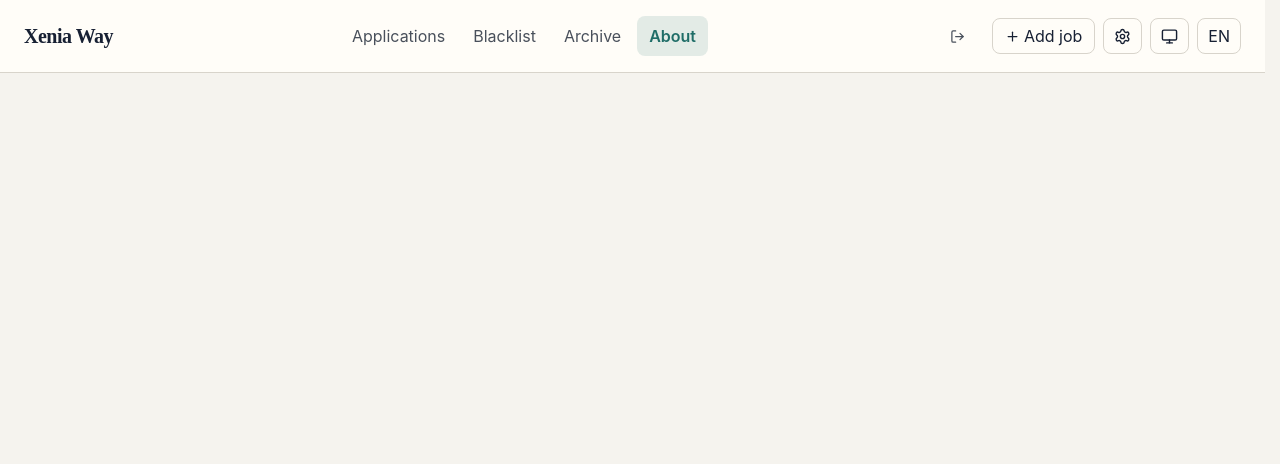
it: a dismissed successful notice can announce a later explicit choice
This screenshot has width=1280, height=464.
Click the button named "Theme: System. Change theme": click(1170, 36) [1150,18,1189,54]
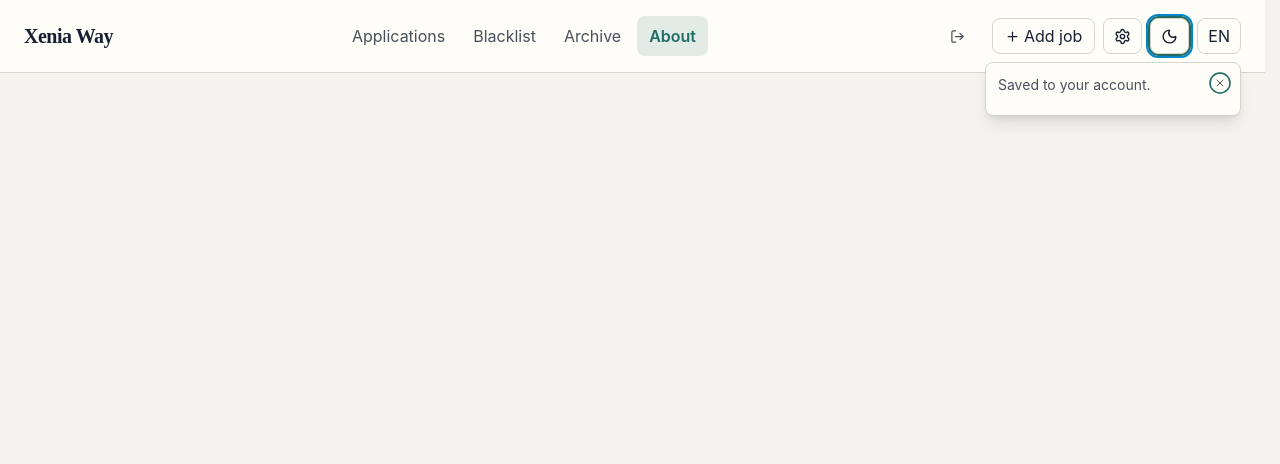
Expected: the text "Saved to your account." is shown, [998,76,1151,93]
Click the button named "Dismiss preference notice": click(1220, 83) [1204,67,1236,99]
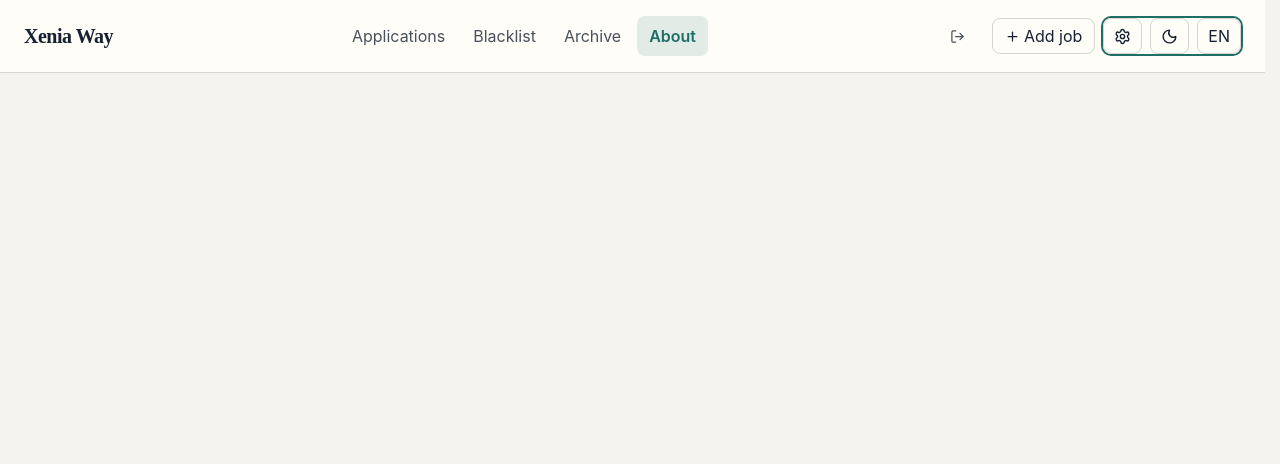
Expected: the message "Saved to your account." is gone
Click the link named "Settings": click(1123, 36) [1103,18,1142,54]
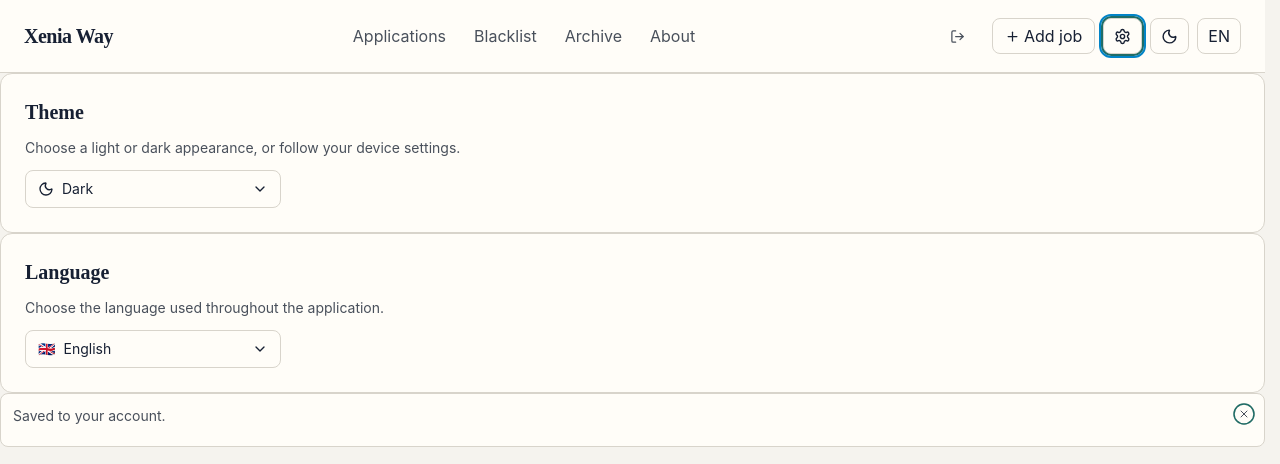
Click the link "About": click(673, 36) [650,26,695,46]
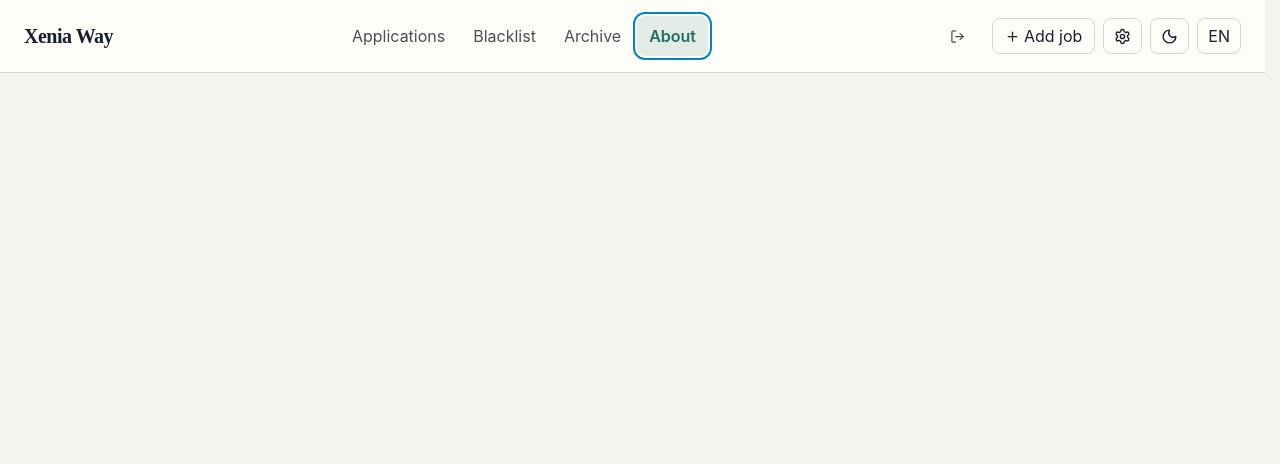
Expected: the message "Saved to your account." is gone
Click the button named "Theme: Dark. Change theme": click(1170, 36) [1150,18,1189,54]
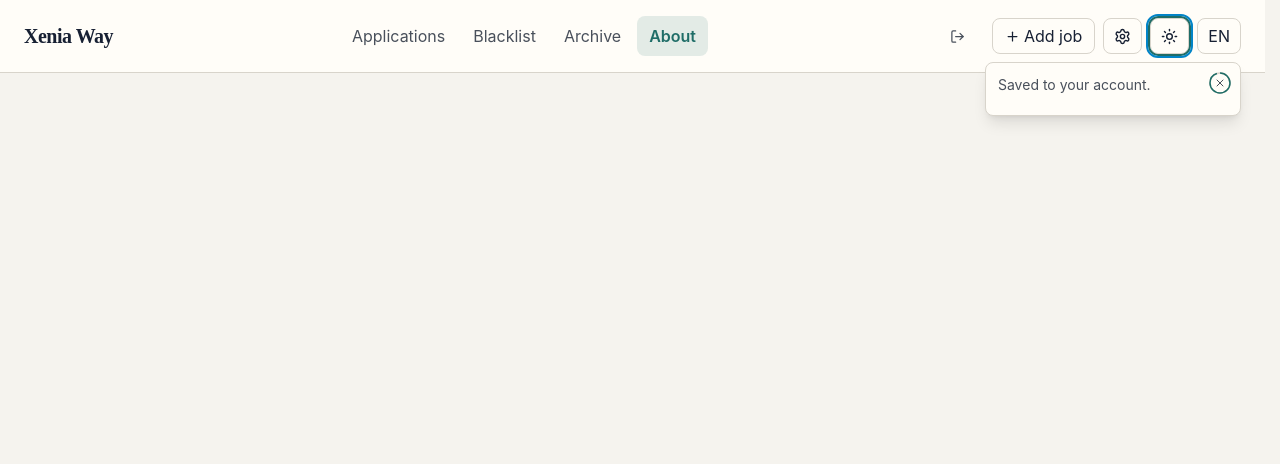
Expected: the message reads "Saved to your account.", [998,76,1151,93]
